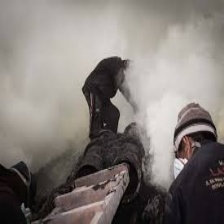smoke: (8, 3, 77, 149), (132, 9, 224, 109)
